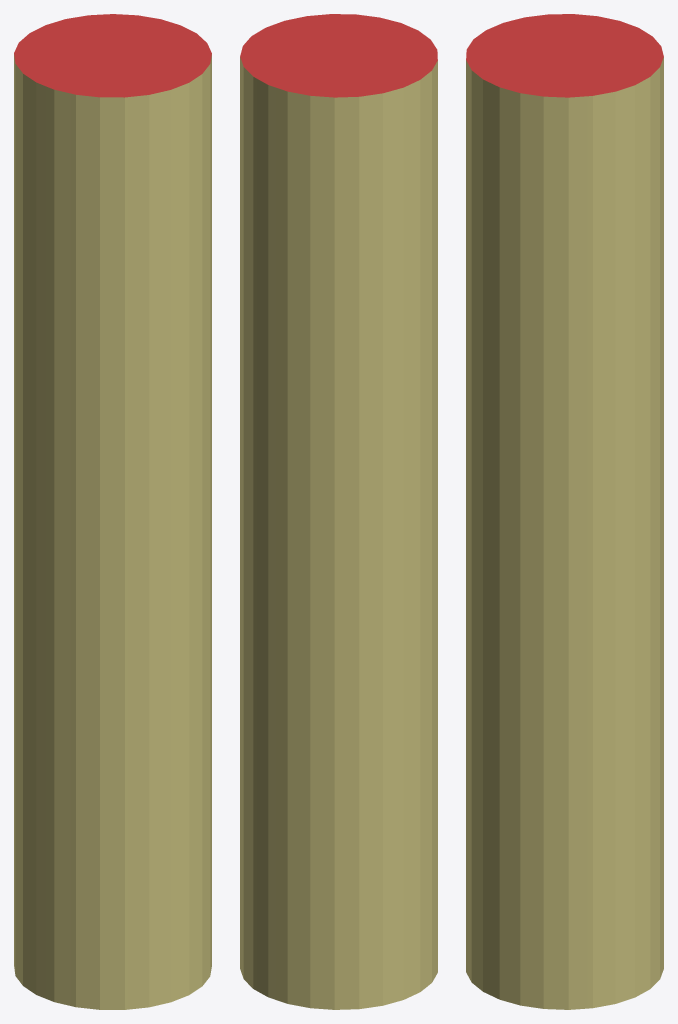
3 views of the same model, side by side, from view 1: azimuth 30°, elevation 25°; view 2: azimuth 150°, elevation 25°; view 3: azimuth 270°, elevation 25° (orthographic).
Size of the model in its own units: 2.24 by 2.24 by 11.41.
